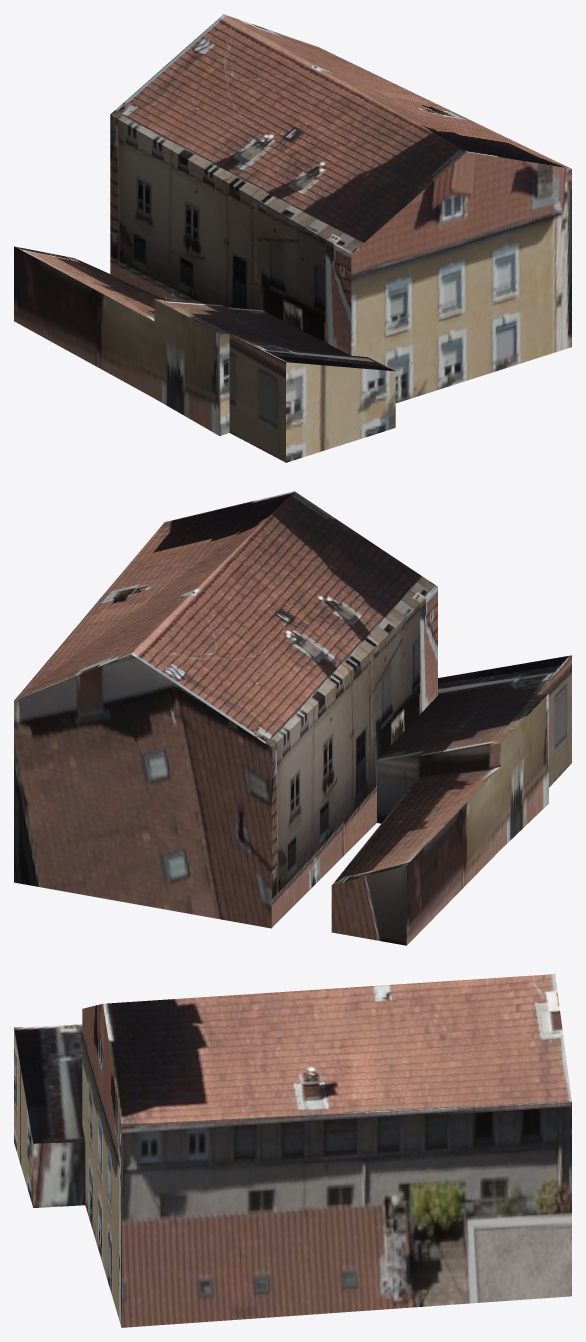
The picture shows the model from 3 angles, top to bottom: view 1: azimuth 30°, elevation 25°; view 2: azimuth 150°, elevation 25°; view 3: azimuth 270°, elevation 25°; orthographic projection. The views are drawn at different scales.
Visible parts, largest first — view 1: Z_UP; view 2: Z_UP; view 3: Z_UP.
Part boxes in pixels (x1,y1,x2,y2): Z_UP: (14, 14, 571, 462); Z_UP: (14, 491, 571, 945); Z_UP: (14, 974, 571, 1327).
Size of the model in its own units: 20.5 by 11.62 by 22.13.
Materials: 2 (1 with a texture image).
